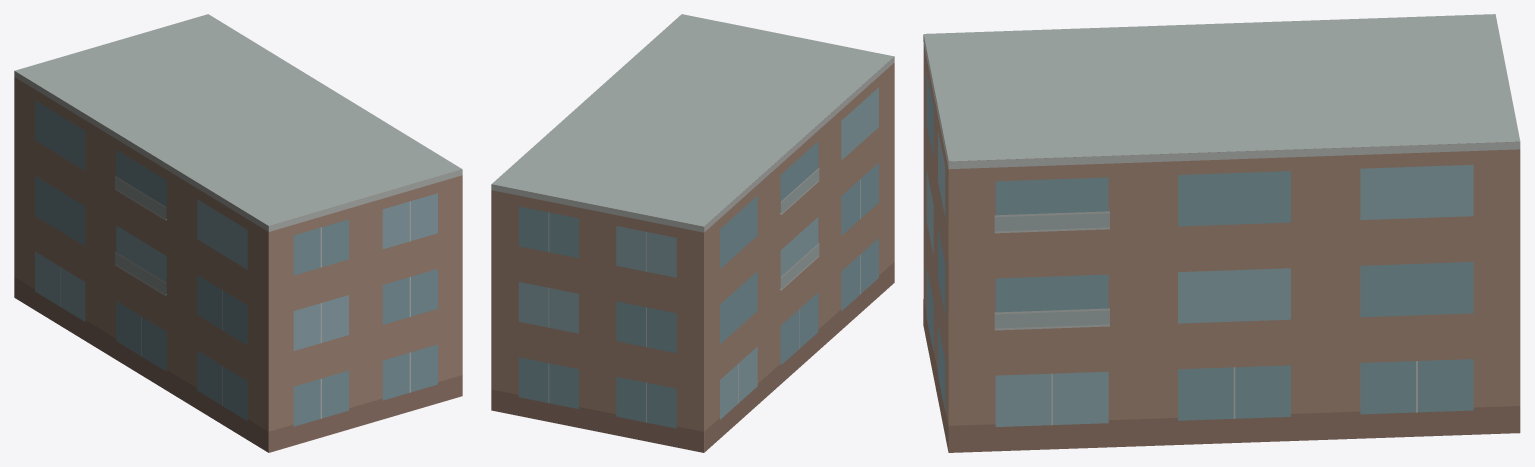
File: survey-upis-33006055.glb
3 renders of one model, left to right at view 1: azimuth 30°, elevation 25°; view 2: azimuth 150°, elevation 25°; view 3: azimuth 270°, elevation 25°, orthographic. The views are drawn at different scales.
Visible parts, largest first — view 1: survey-upis-33006055.tmp; view 2: survey-upis-33006055.tmp; view 3: survey-upis-33006055.tmp.
Boxes of the visible parts, x1=… form: survey-upis-33006055.tmp: x1=14, y1=14, x2=462, y2=452; survey-upis-33006055.tmp: x1=491, y1=14, x2=894, y2=452; survey-upis-33006055.tmp: x1=923, y1=14, x2=1520, y2=452.
Size of the model in its own units: 9.94 by 9.15 by 17.
